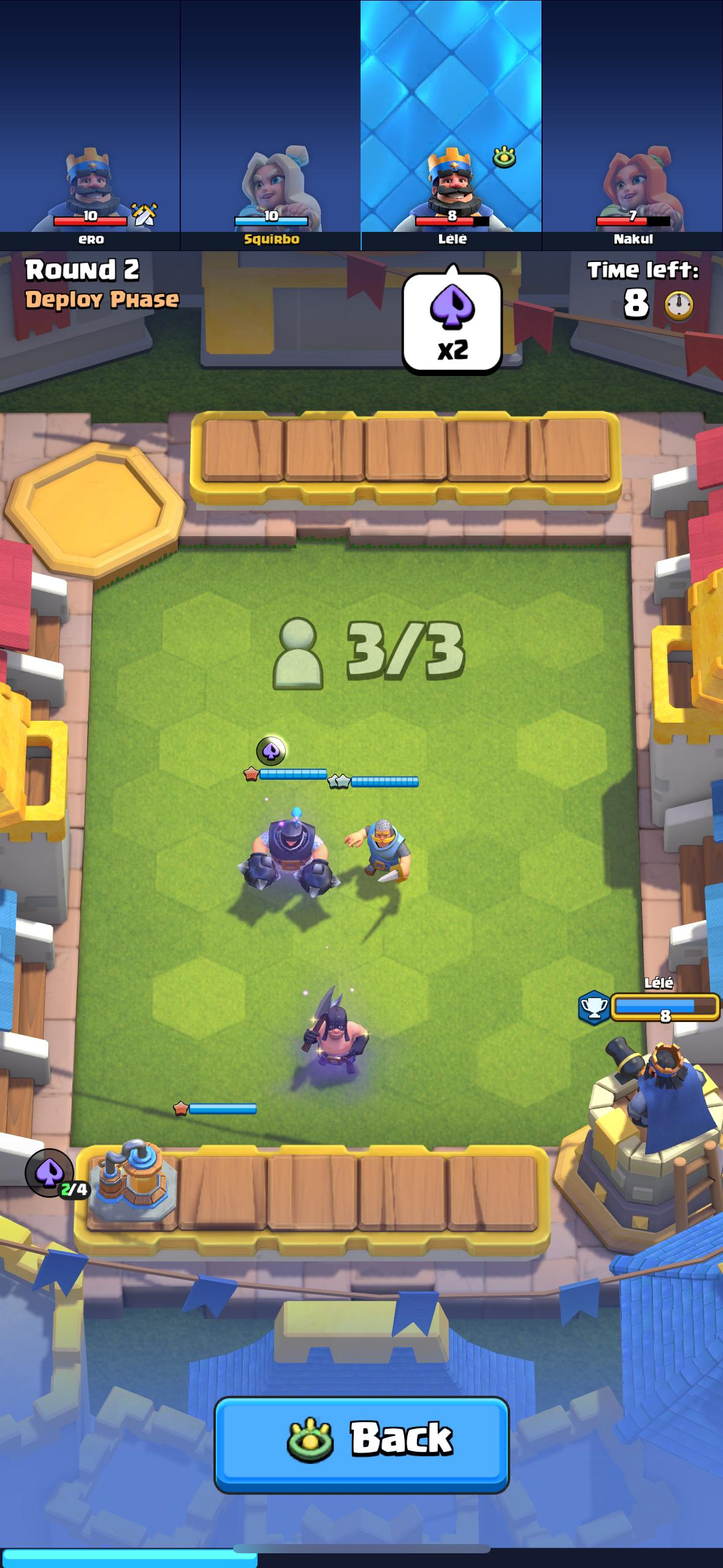collector: (90, 1136, 178, 1224)
executioner: (290, 984, 373, 1075)
knight: (347, 799, 413, 890)
mega: (244, 804, 341, 903)
